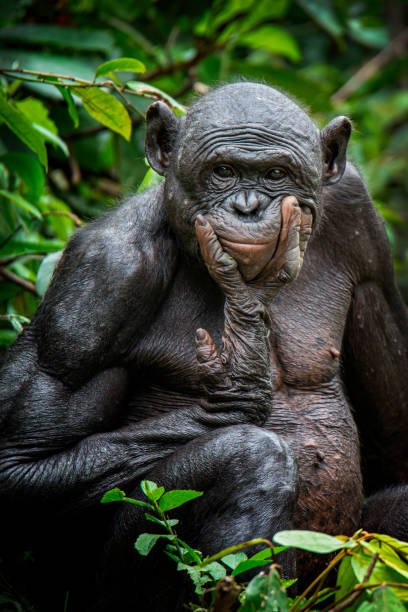chimpanzee: (118, 57, 372, 303)
